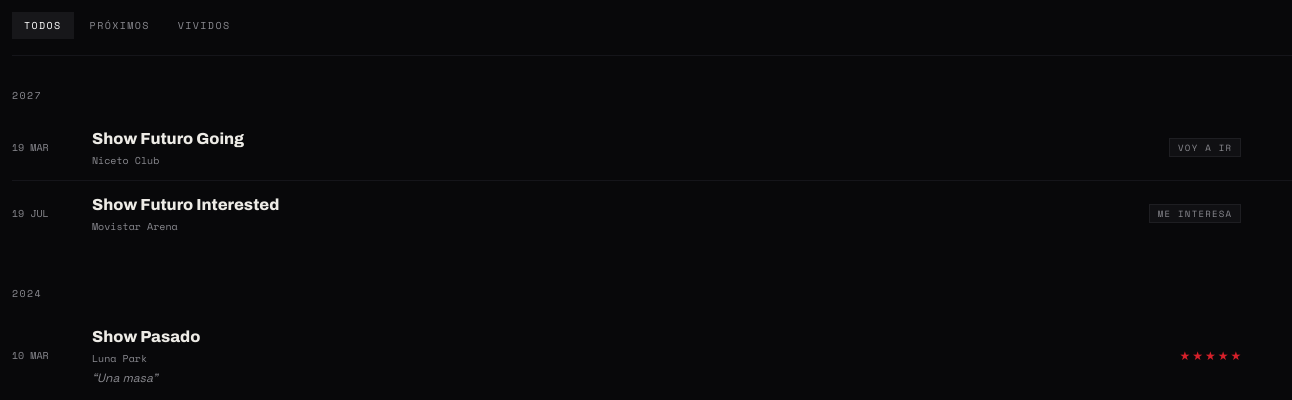
it: AgendaView › filtra por tab: "Todos" muestra los 3, "Próximos" sólo futuros, "Vividos" sólo went
The width and height of the screenshot is (1292, 400).
Expected: the text "Show Pasado" is shown, [92,328,200,345]
Expected: the text "Show Futuro Going" is shown, [92,130,244,147]
# Cambiar a "Próximos"
What coordinates should you click on to do the following:
click the button "Próximos"
I would click on:
 (120, 26)
Its box is [78,12,162,39].
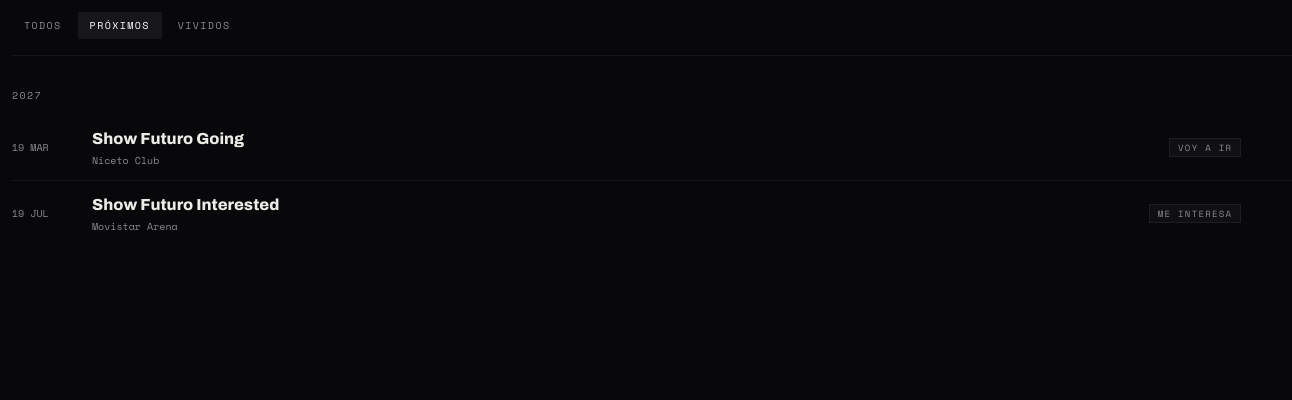
Expected: the text "Show Futuro Going" is shown, [92,130,244,147]
Expected: the link "Show Pasado" is gone
# Cambiar a "Vividos"
What coordinates should you click on to do the following:
click the button "Vividos"
I would click on:
 (204, 26)
Its box is [166,12,242,39].
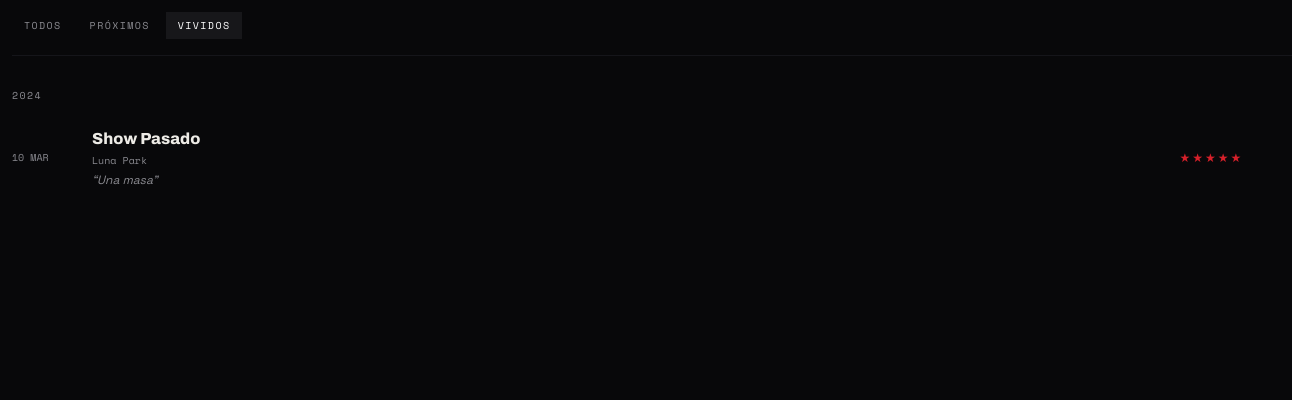
Expected: the text "Show Pasado" is shown, [92,130,200,147]
Expected: the link "Show Futuro Going" is gone
Expected: the link "Show Futuro Interested" is gone
